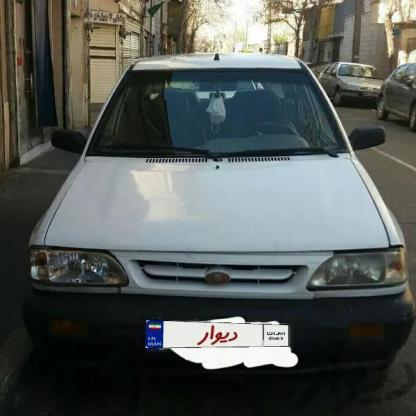Car: (24, 47, 415, 381), (324, 57, 388, 114), (384, 66, 416, 143)
